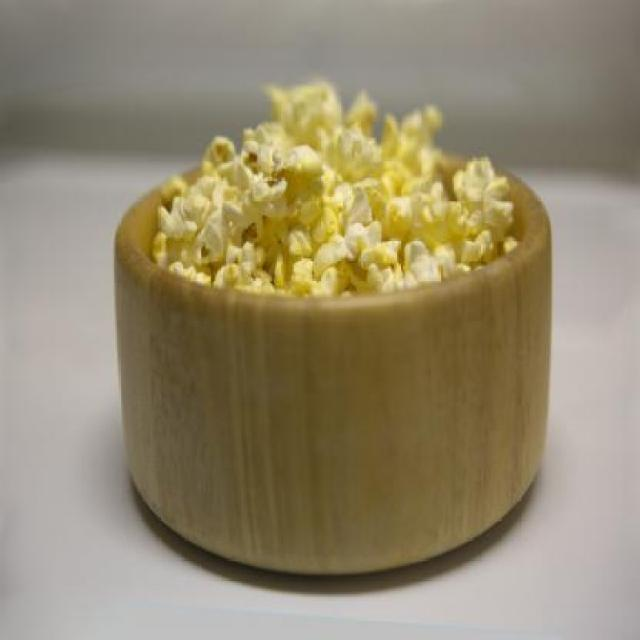Popcorn: (152, 77, 514, 291)
